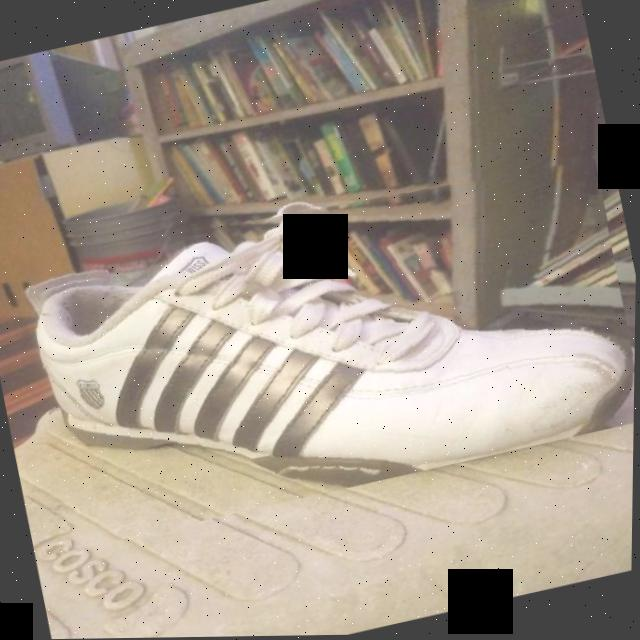shoe: (14, 134, 638, 550)
